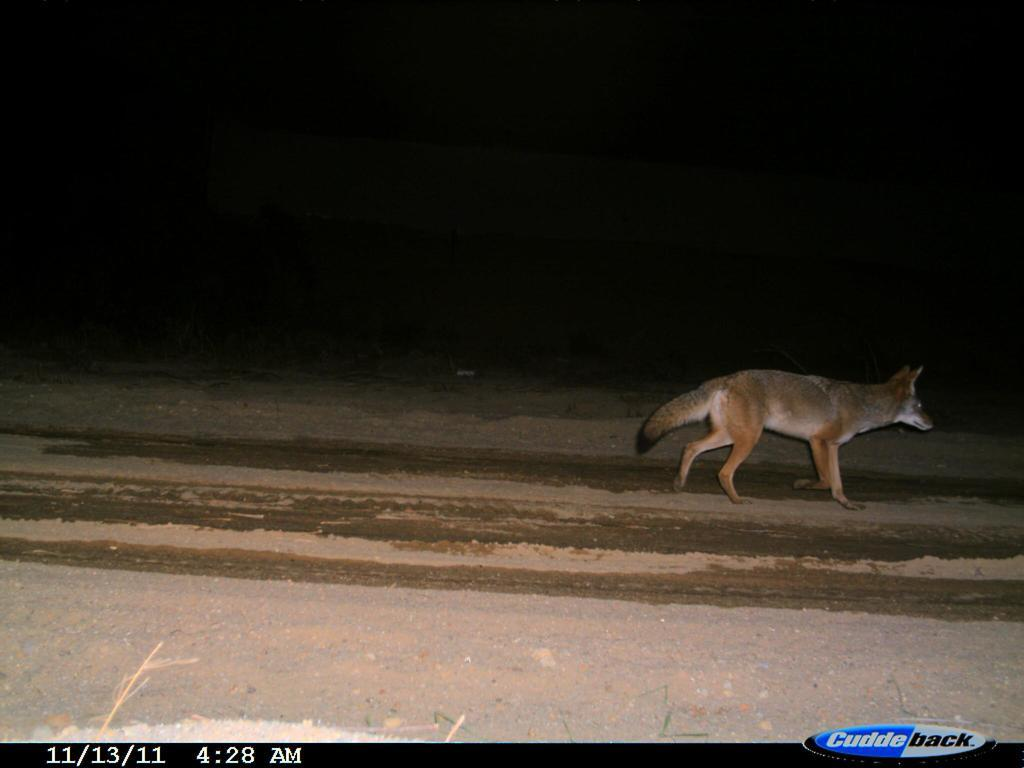coyote: (629, 358, 941, 518)
